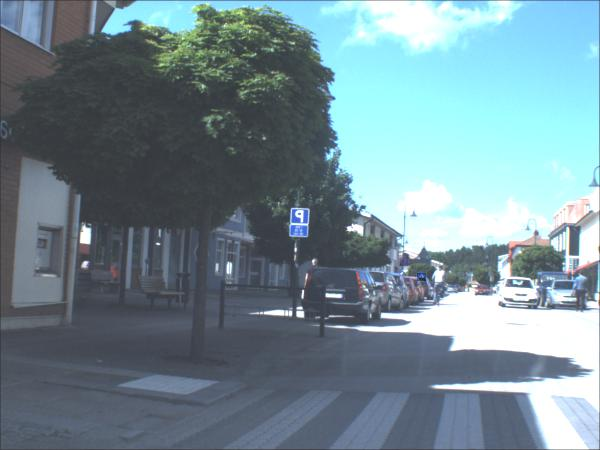NO_PARKING: (400, 258, 409, 268)
PEDESTRIAN_CROSSING: (417, 274, 427, 283)
